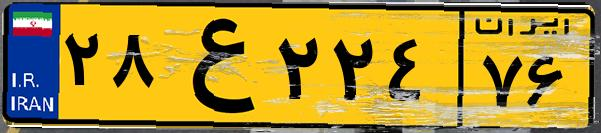2: (270, 28, 330, 110), (330, 28, 385, 110), (57, 26, 110, 100)
4: (385, 28, 445, 110)
6: (525, 38, 570, 115)
7: (475, 38, 525, 113)
8: (110, 28, 158, 98)
ع: (158, 12, 270, 120)
